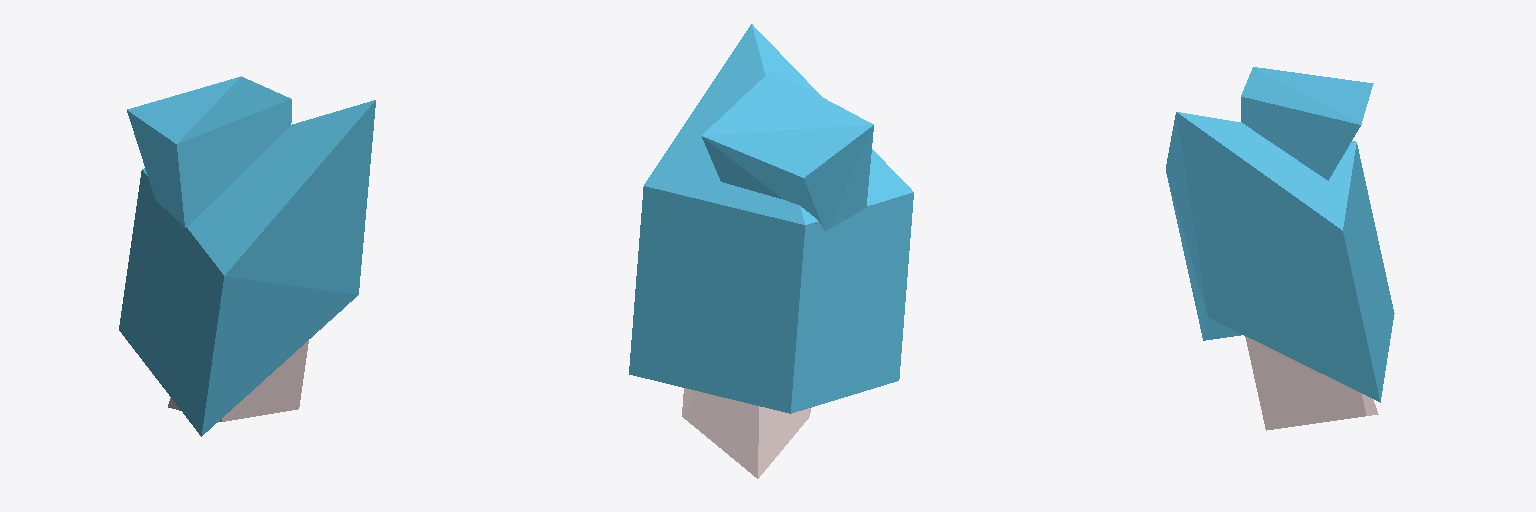
Rendered from footUL.obj.
3 views of the same model, side by side, from view 1: azimuth 30°, elevation 25°; view 2: azimuth 150°, elevation 25°; view 3: azimuth 270°, elevation 25° (orthographic).
Parts seen in each view (by area): view 1: polySurface80; view 2: polySurface80; view 3: polySurface80.
Part boxes in pixels (left/top/right/bottom): polySurface80: left=119, top=76, right=375, bottom=436; polySurface80: left=629, top=24, right=913, bottom=478; polySurface80: left=1166, top=67, right=1394, bottom=430.
Size of the model in its own units: 3.27 by 5.97 by 3.49.